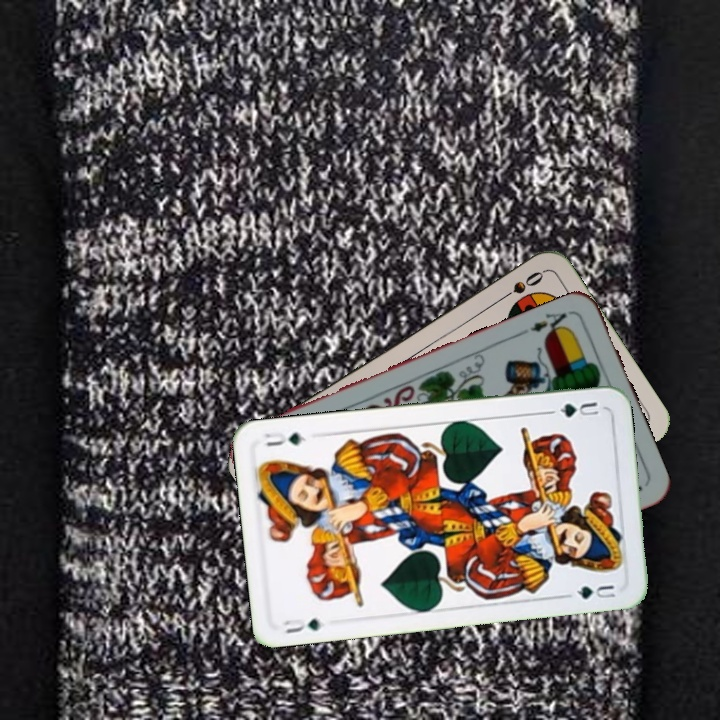EA: (525, 306, 575, 340)
GU: (555, 397, 601, 421), (278, 614, 324, 636)
SO: (493, 267, 547, 305)
